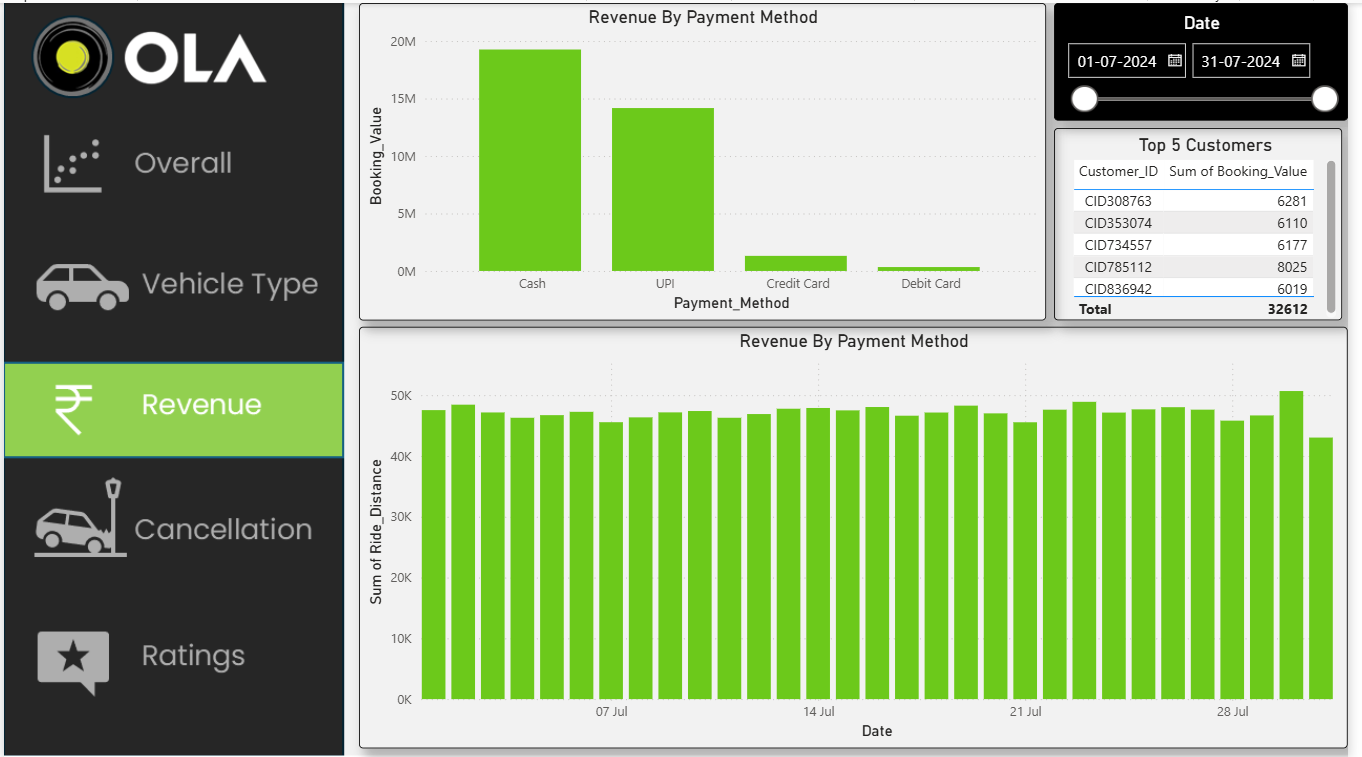

The page's visual inventory and layout, read from the dashboard file:
{"tool":"powerbi","page":{"name":"Revenue","canvas":[1280,720],"ordinal":2},"visuals":[{"type":"actionButton","box":[0,342.9,323.8,91.7],"z":0},{"type":"columnChart","title":"Revenue By Payment Method","fields":{"Y":["Sum(July.Booking_Value)"],"Category":["July.Payment_Method"]},"box":[338,0,654,302],"z":1000},{"type":"columnChart","title":"Revenue By Payment Method","fields":{"Y":["Sum(July.Ride_Distance)"],"Category":["July.Date"]},"box":[338.6,308.6,941.4,401.4],"z":2000},{"type":"slicer","title":"Date","fields":{"Values":["July.Date"]},"box":[1000,0,280,111.7],"z":3000},{"type":"tableEx","title":"Top 5 Customers","fields":{"Values":["July.Customer_ID","Sum(July.Booking_Value)"]},"box":[1000,118.7,274.7,183.3],"z":4000}]}

Visuals, with their boxes in screenshot pixels (x1, y1, x2, y2), scaled from the page's 1280x720 canvas onto the 1362x757 screenshot:
actionButton: 0/361/345/457
"Revenue By Payment Method" columnChart: 360/0/1056/318
"Revenue By Payment Method" columnChart: 360/324/1361/746
"Date" slicer: 1064/0/1361/117
"Top 5 Customers" tableEx: 1064/125/1356/318
